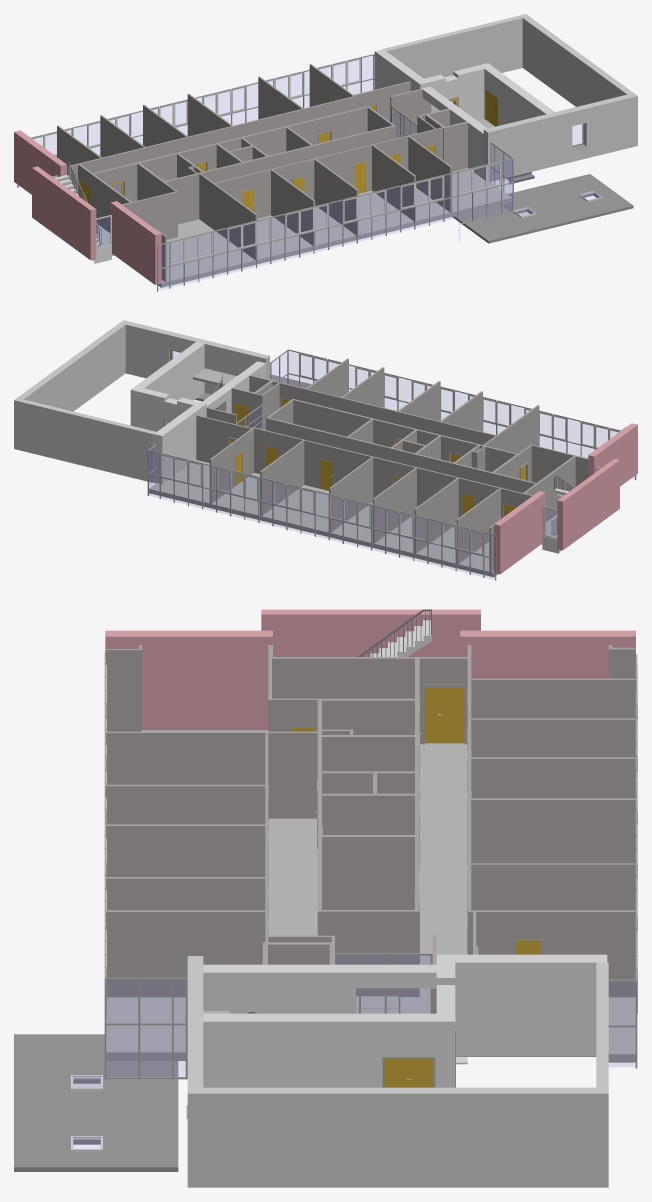
The model's file is Riihimaki3F.glb.
3 views of the same model, one above another, from view 1: azimuth 30°, elevation 25°; view 2: azimuth 150°, elevation 25°; view 3: azimuth 270°, elevation 25° (orthographic). The views are drawn at different scales.
Parts seen in each view (by area): view 1: AdditionalWall3F, IfcSlab/Floor:VP 300mm:743826, IfcSlab/Basic Roof:Vesikatto - 160mm:676792:1, IfcWallStandardCase/Basic Wall:US kantava - 500mm:844260, IfcWallStandardCase/Basic Wall:Exterior - Brick on Mtl. Stu. (×2), IfcWallStandardCase/Basic Wall:VS - 140mm:825325, IfcWallStandardCase/Basic Wall:VS - 100mm:831422, IfcWallStandardCase/Basic Wall:VS - 110mm:820915, IfcWallStandardCase/Basic Wall:VS - 140mm:825324, IfcWallStandardCase/Basic Wall:Exterior - Brick on Mtl. Stud, IfcWallStandardCase/Basic Wall:VS - 120mm:831952, IfcWallStandardCase/Basic Wall:VS Kantava- 600mm:889204 (+22 smaller); view 2: AdditionalWall3F, IfcSlab/Floor:VP 300mm:743826, IfcWallStandardCase/Basic Wall:Exterior - Brick on Mtl. Stu. (×2), IfcWallStandardCase/Basic Wall:VS - 110mm:820915, IfcWallStandardCase/Basic Wall:VS - 140mm:825324, IfcWallStandardCase/Basic Wall:VS - 140mm:825325, IfcWallStandardCase/Basic Wall:VS - 100mm:831422, IfcWallStandardCase/Basic Wall:US kantava - 500mm:844260, 3F1, IfcWallStandardCase/Basic Wall:VS Kantava- 600mm:839744, IfcWallStandardCase/Basic Wall:VS Kantava- 600mm:889204, IfcWallStandardCase/Basic Wall:VS - 110mm:822388 (+22 smaller); view 3: AdditionalWall3F, IfcSlab/Floor:VP 300mm:743826, IfcSlab/Basic Roof:Vesikatto - 160mm:676792:1, IfcWallStandardCase/Basic Wall:Exterior - Brick on Mtl. Stu. (×2), IfcWallStandardCase/Basic Wall:VS Kantava- 600mm:839744, 3F1, IfcWallStandardCase/Basic Wall:Exterior - Brick on Mtl. Stud, IfcWallStandardCase/Basic Wall:VS - 120mm:831952, IfcWallStandardCase/Basic Wall:VS - 120mm:832675, IfcWallStandardCase/Basic Wall:VS - 110mm:822240, IfcWallStandardCase/Basic Wall:VS Kantava- 600mm:889266, IfcWallStandardCase/Basic Wall:VS - 120mm:832657 (+33 smaller).
Boxes of the visible parts, box(x1,y1,x2,y2) form: AdditionalWall3F: box(383, 14, 637, 156); IfcSlab/Floor:VP 300mm:743826: box(92, 118, 512, 287); IfcSlab/Basic Roof:Vesikatto - 160mm:676792:1: box(452, 174, 633, 243); IfcWallStandardCase/Basic Wall:US kantava - 500mm:844260: box(483, 103, 593, 182); IfcWallStandardCase/Basic Wall:Exterior - Brick on Mtl. Stu. (×2): box(14, 130, 96, 260); IfcWallStandardCase/Basic Wall:VS - 140mm:825325: box(93, 106, 367, 201); IfcWallStandardCase/Basic Wall:VS - 100mm:831422: box(214, 127, 443, 218); IfcWallStandardCase/Basic Wall:VS - 110mm:820915: box(68, 96, 354, 193); IfcWallStandardCase/Basic Wall:VS - 140mm:825324: box(165, 125, 393, 224); IfcWallStandardCase/Basic Wall:Exterior - Brick on Mtl. Stud: box(110, 201, 161, 284); IfcWallStandardCase/Basic Wall:VS - 120mm:831952: box(199, 173, 257, 260); IfcWallStandardCase/Basic Wall:VS Kantava- 600mm:889204: box(415, 63, 492, 120); AdditionalWall3F: box(14, 320, 165, 482); IfcSlab/Floor:VP 300mm:743826: box(149, 460, 561, 577); IfcWallStandardCase/Basic Wall:Exterior - Brick on Mtl. Stu. (×2): box(494, 458, 619, 574); IfcWallStandardCase/Basic Wall:VS - 110mm:820915: box(254, 427, 532, 518); IfcWallStandardCase/Basic Wall:VS - 140mm:825324: box(293, 399, 516, 471); IfcWallStandardCase/Basic Wall:VS - 140mm:825325: box(268, 418, 536, 492); IfcWallStandardCase/Basic Wall:VS - 100mm:831422: box(272, 381, 495, 444); IfcWallStandardCase/Basic Wall:US kantava - 500mm:844260: box(162, 330, 269, 394); 3F1: box(154, 405, 201, 484); IfcWallStandardCase/Basic Wall:VS Kantava- 600mm:839744: box(136, 342, 204, 400); IfcWallStandardCase/Basic Wall:VS Kantava- 600mm:889204: box(130, 386, 206, 431); IfcWallStandardCase/Basic Wall:VS - 110mm:822388: box(260, 440, 304, 516); AdditionalWall3F: box(187, 962, 608, 1187); IfcSlab/Floor:VP 300mm:743826: box(106, 730, 635, 1062); IfcSlab/Basic Roof:Vesikatto - 160mm:676792:1: box(14, 1034, 178, 1171); IfcWallStandardCase/Basic Wall:Exterior - Brick on Mtl. Stu. (×2): box(261, 609, 635, 678); IfcWallStandardCase/Basic Wall:VS Kantava- 600mm:839744: box(203, 1013, 436, 1087); 3F1: box(455, 954, 607, 1056); IfcWallStandardCase/Basic Wall:Exterior - Brick on Mtl. Stud: box(105, 630, 272, 730); IfcWallStandardCase/Basic Wall:VS - 120mm:831952: box(106, 731, 317, 818); IfcWallStandardCase/Basic Wall:VS - 120mm:832675: box(106, 910, 265, 997); IfcWallStandardCase/Basic Wall:VS - 110mm:822240: box(471, 798, 635, 863); IfcWallStandardCase/Basic Wall:VS Kantava- 600mm:889266: box(203, 964, 436, 1013); IfcWallStandardCase/Basic Wall:VS - 120mm:832657: box(106, 824, 265, 876).
Bounding box in the file's own units: 36.61 × 6.06 × 19.94.
